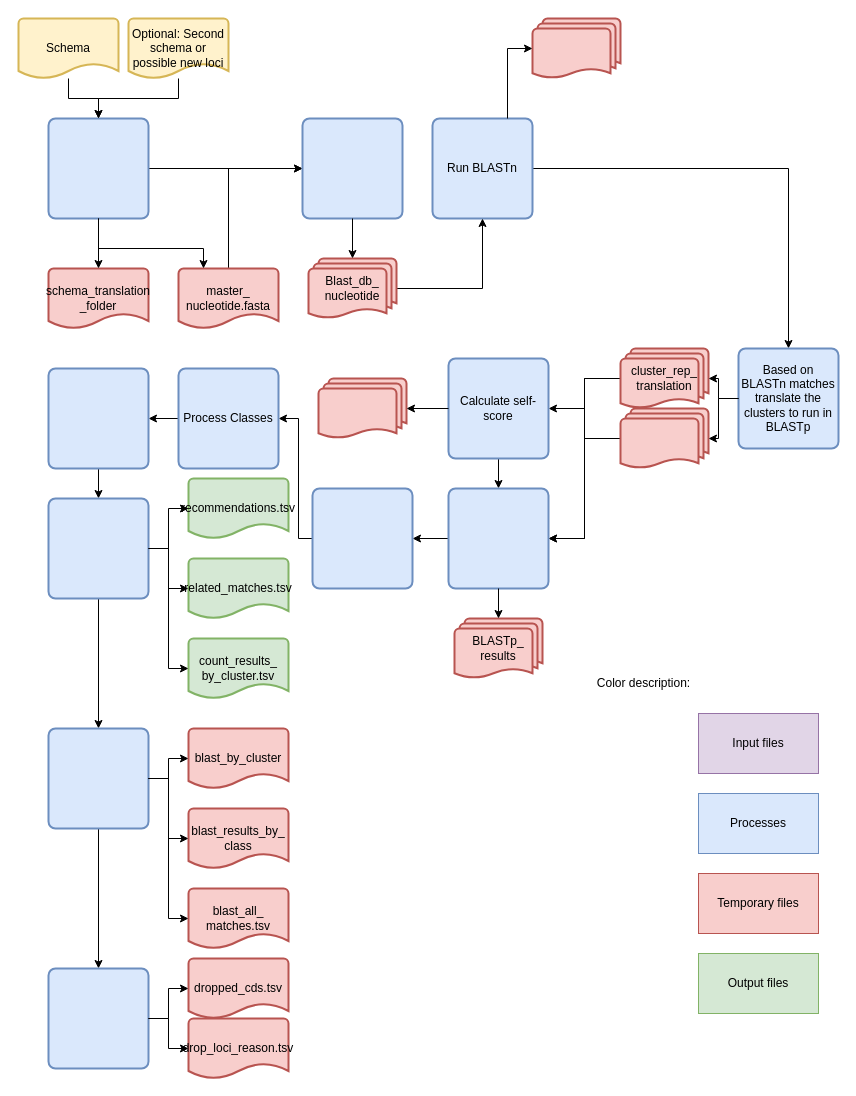
Image size: 856x1096. Some labels were removed from this diagram. The centre of each missing label's shape, as x and y in pixels:
"BLASTn_ results" belongs at point 576,48.
"blastn_results_ matches_ translations" belongs at point 664,438.
"Create BLASTn database" belongs at point 352,168.
"Extract Results" belongs at point 98,418.
"Process nucleotide sequences, translate and deduplicate them" belongs at point 98,168.
"Run BLASTp" belongs at point 498,538.
"self_score_ folder" belongs at point 362,408.
"Separate BLAST results into classes" belongs at point 362,538.
"Write BLAST results" belongs at point 98,778.
"Write dropped CDS and dropped possible new loci" belongs at point 98,1018.
"Write recommendations summary results" belongs at point 98,548.
